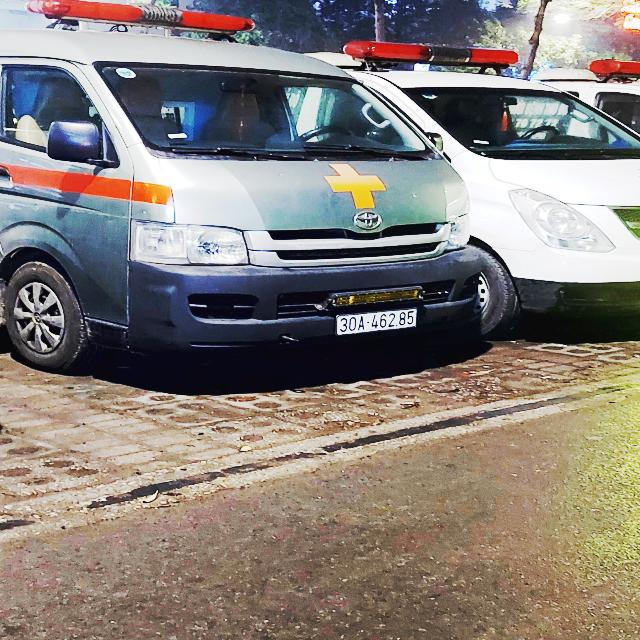license_plate: (334, 307, 421, 338)
